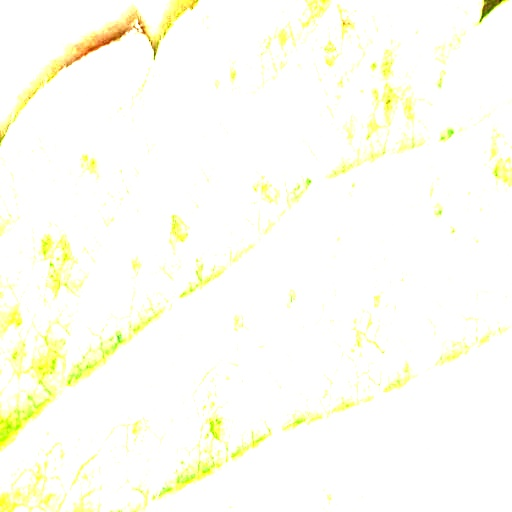Angular Leafspot: (0, 0, 511, 511)
